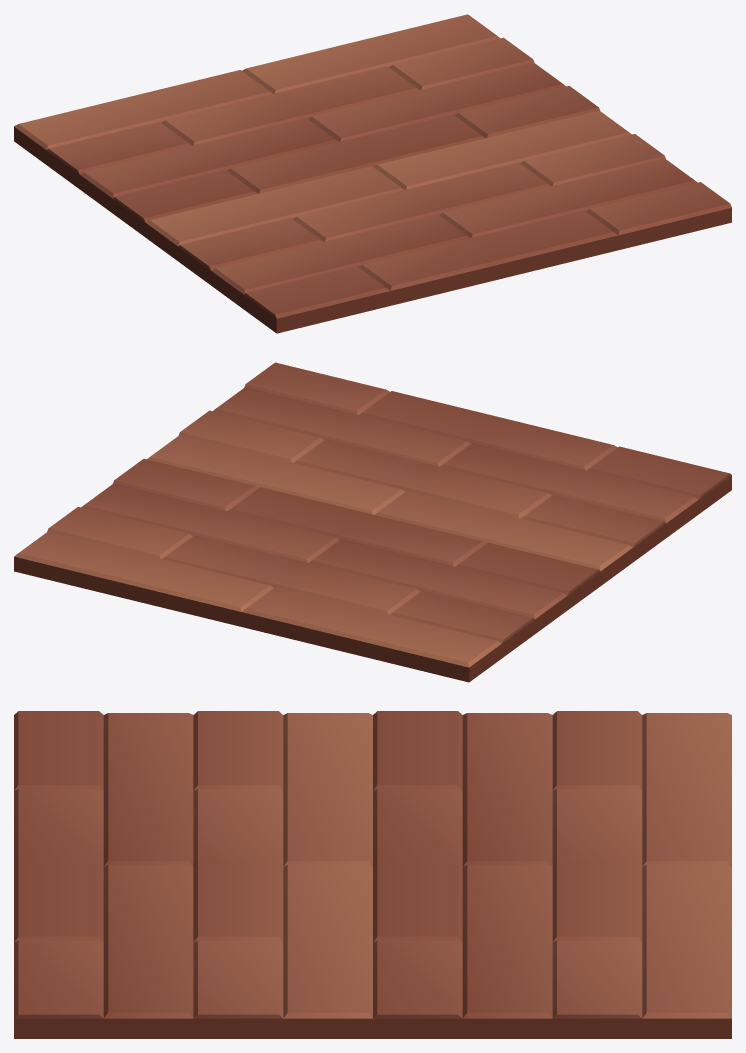
File: dungeon-floor-wood.glb
The picture shows the model from 3 angles, top to bottom: view 1: azimuth 30°, elevation 25°; view 2: azimuth 150°, elevation 25°; view 3: azimuth 270°, elevation 25°; orthographic projection. The views are drawn at different scales.
Visible parts, largest first — view 1: dungeon-floor-wood; view 2: dungeon-floor-wood; view 3: dungeon-floor-wood.
Boxes of the visible parts, <box> form: dungeon-floor-wood: <box>14,14,731,333</box>; dungeon-floor-wood: <box>14,362,731,682</box>; dungeon-floor-wood: <box>14,711,731,1038</box>.
Size of the model in its own units: 3 by 0.1124 by 3.
Materials: 1 (1 with a texture image).
